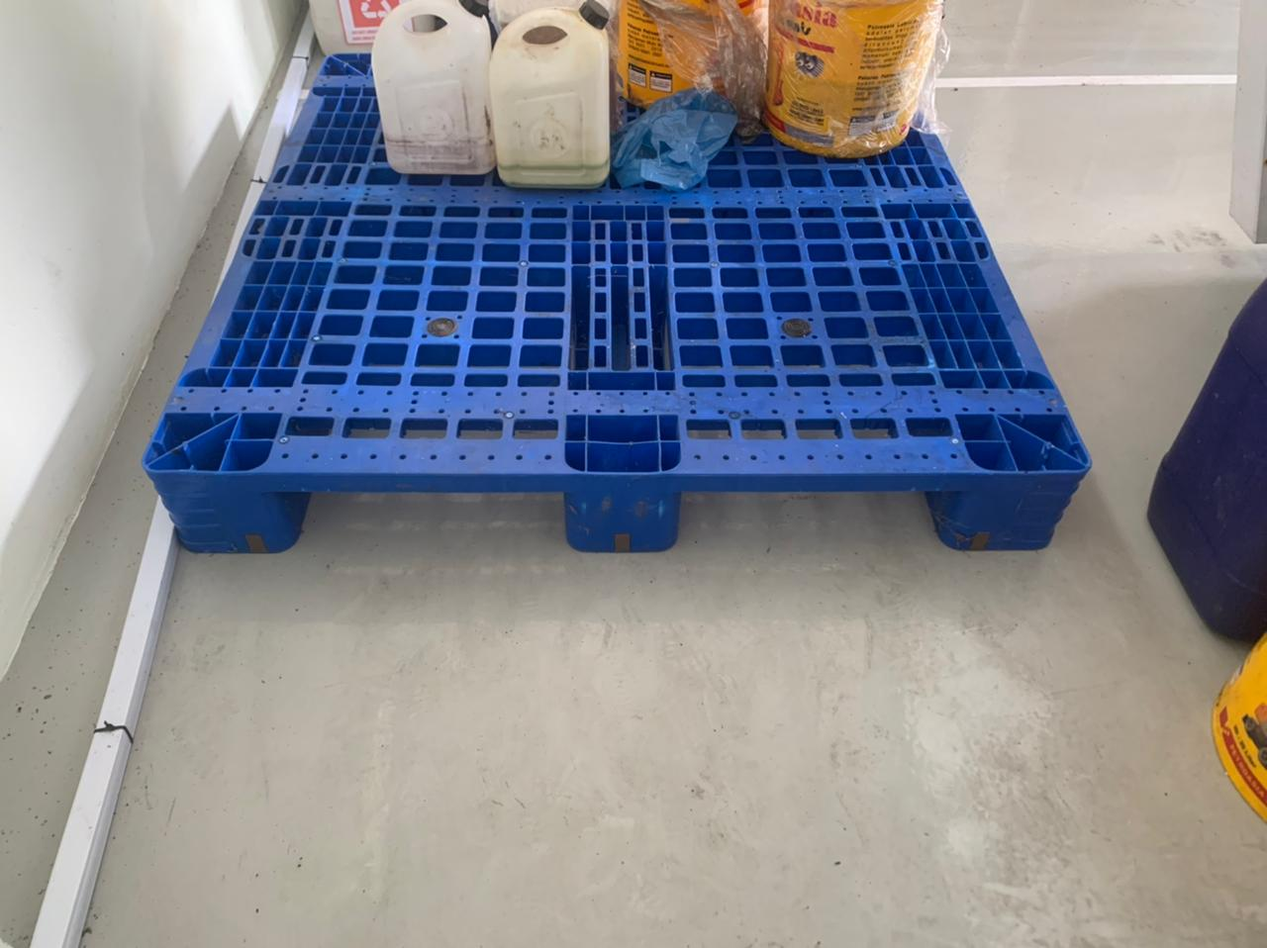block: (144, 464, 298, 553), (948, 468, 1091, 554), (563, 474, 680, 551)
front: (151, 470, 1078, 555)
hole pallet: (675, 491, 958, 549), (273, 493, 567, 545)
